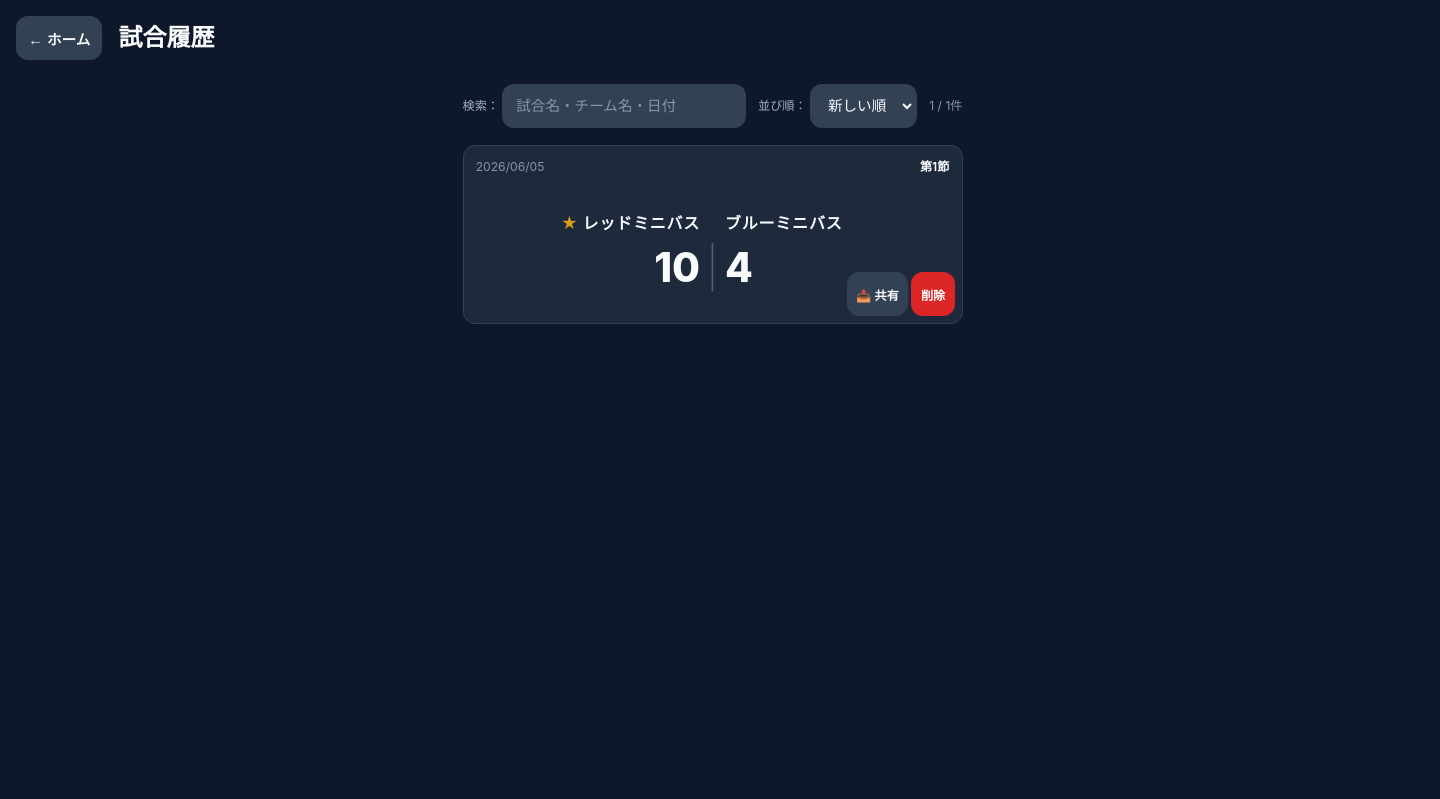
Scenario: 履歴詳細のタブ › 履歴では出力ボタンを出す
Click the button "2026/06/05 第1節 ★ レッドミニバス 10 | ブルーミニバス 4".
click(510, 166)  # box x1=476 y1=158 x2=949 y2=311
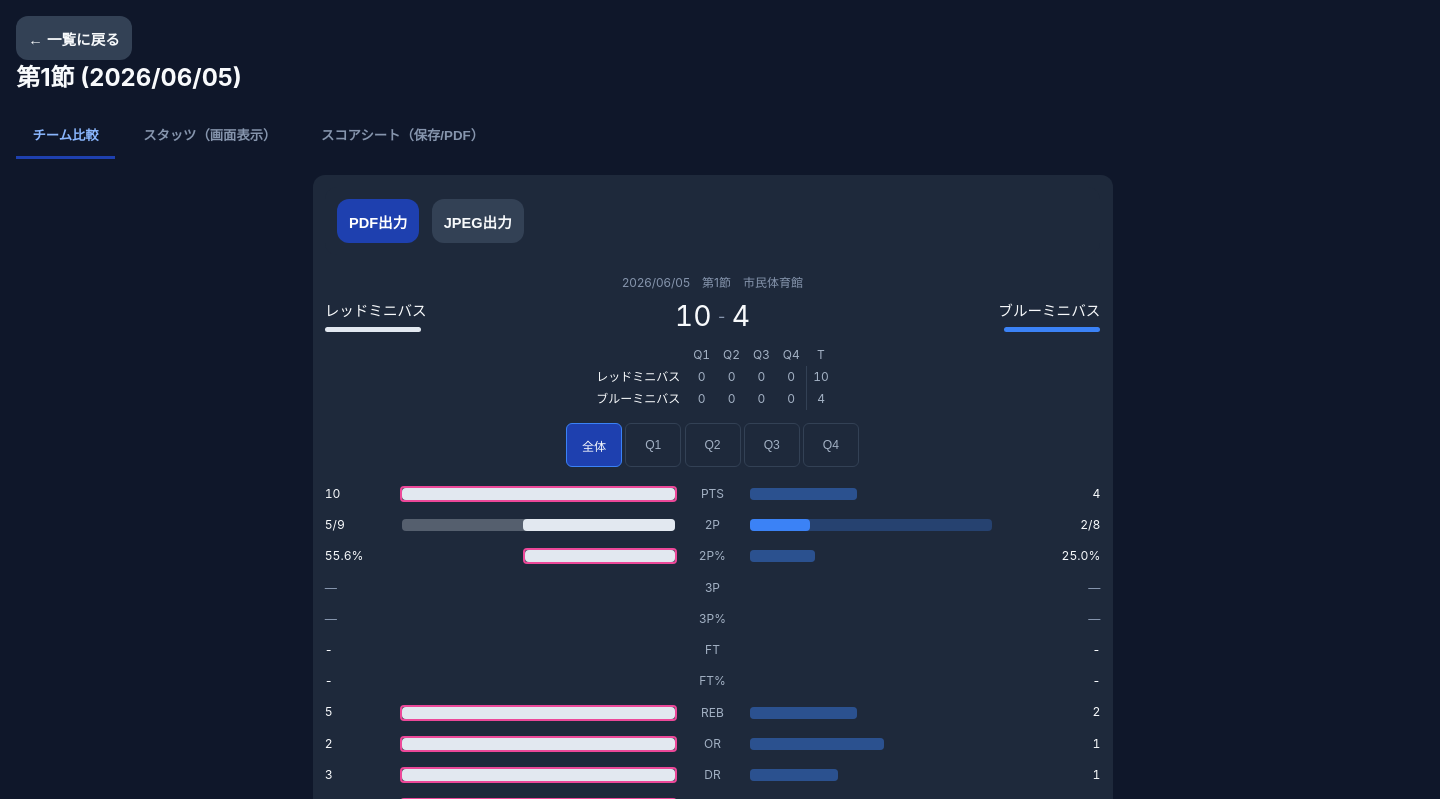
Now the element with class "comparison-export" is shown, box x1=325 y1=187 x2=1100 y2=255
